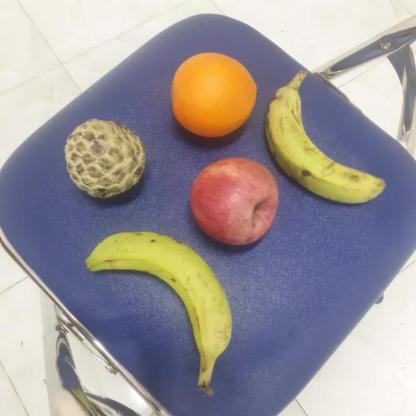annona: (64, 116, 150, 199)
apple: (186, 157, 280, 247)
banana: (80, 232, 234, 372), (265, 88, 386, 211)
orange: (168, 51, 257, 139)
